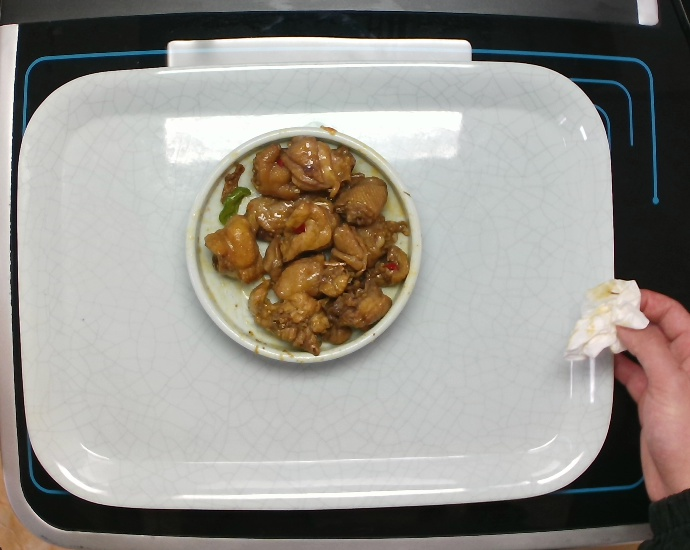JYsf-Xiao_Yuan_Pan: (182, 123, 425, 365)
